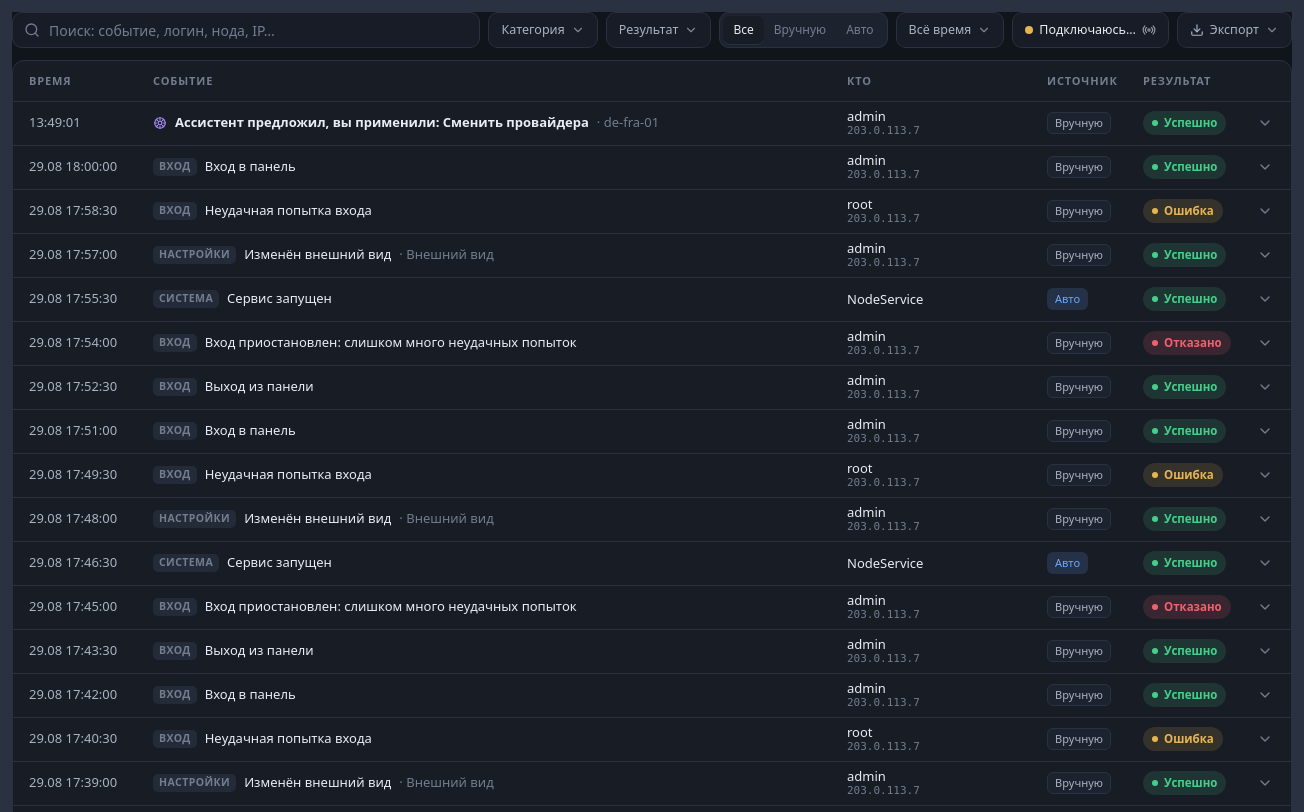
AuditPage › изменения по предложению Ассистента (J5, C1) › детали: «Было → Станет», причина и итог проверки; сырых ключей и кнопки отмены нет
Click the text "Ассистент предложил, вы применили: Сменить провайдера": (652, 123) [13, 101, 1291, 145]
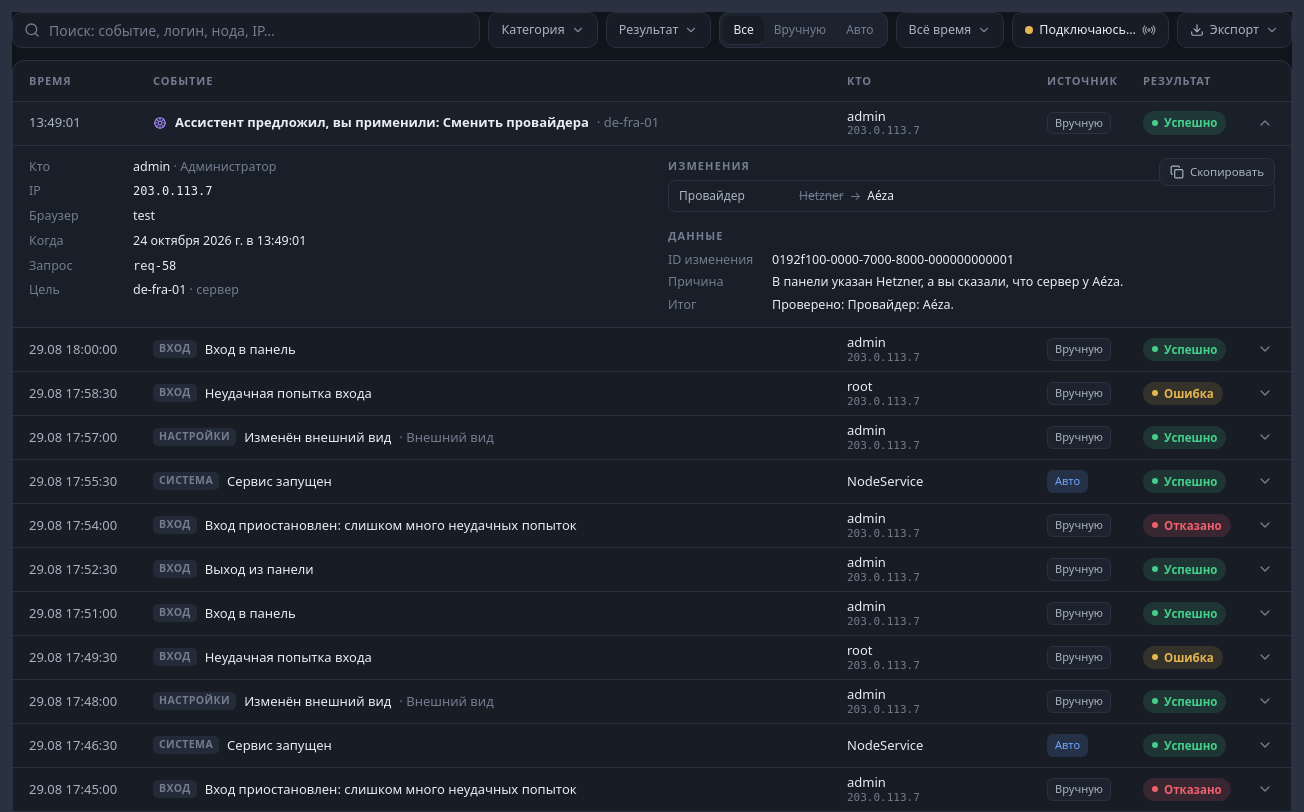
Result: the heading "Изменения" is shown at [668, 158, 750, 172]
Result: the text "Hetzner" is shown at [799, 187, 844, 204]
Result: the text "Aéza" is shown at [867, 187, 894, 204]
